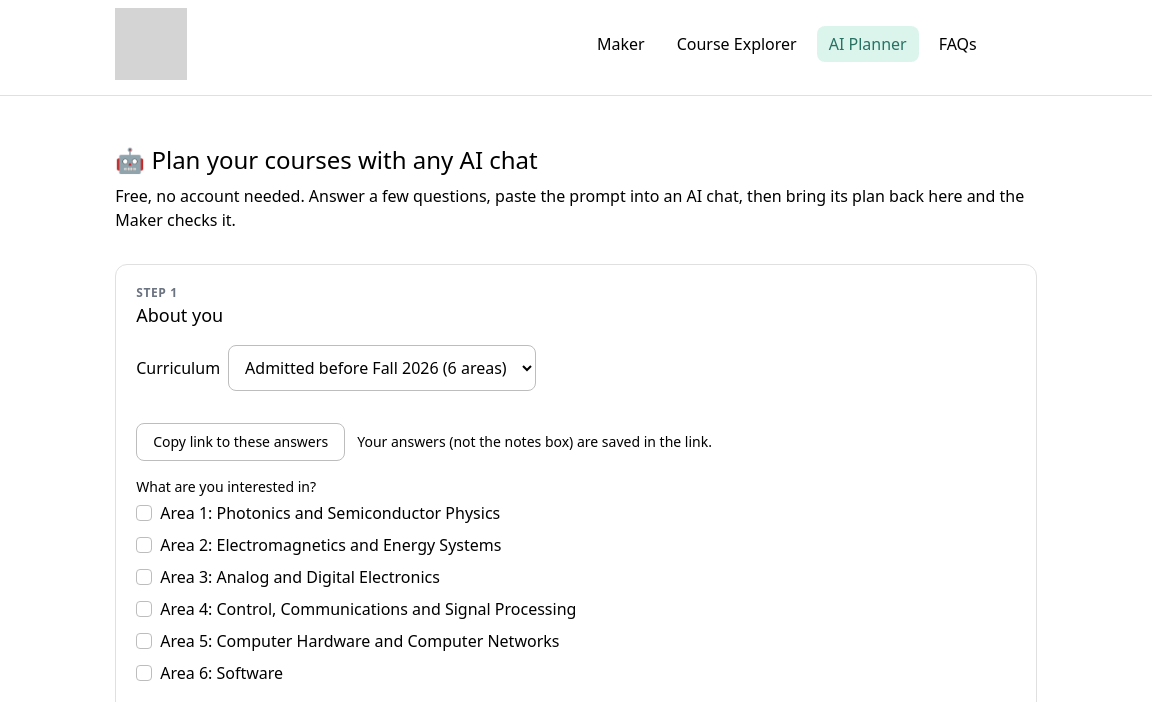
Test case: Planner page › changes the groups and requirements with the curriculum
Expected: the checkbox with test id "interest-6" is shown, [136,665,152,681]
Click the checkbox with test id "interest-5".
click(144, 641)  # box [136,633,152,649]
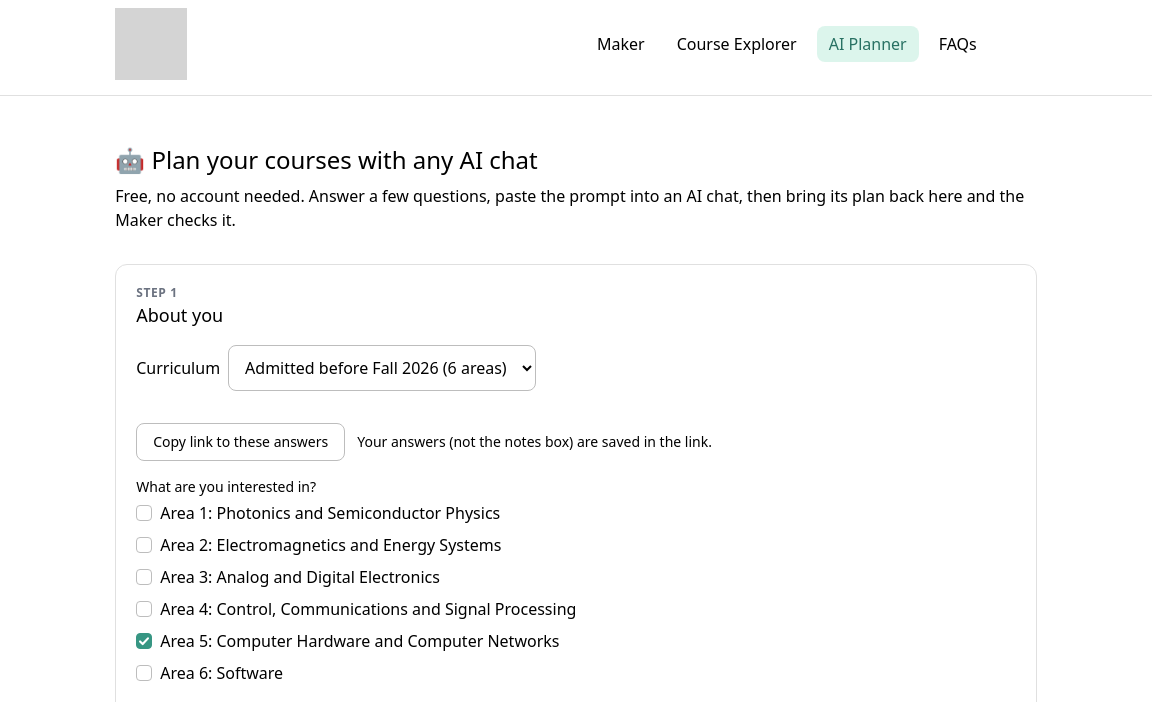
Select "Admitted Fall 2026+ · Electrical" in the dropdown with test id "curriculum-picker" at (382, 368), box [228,345,536,391]
(page scrolled)
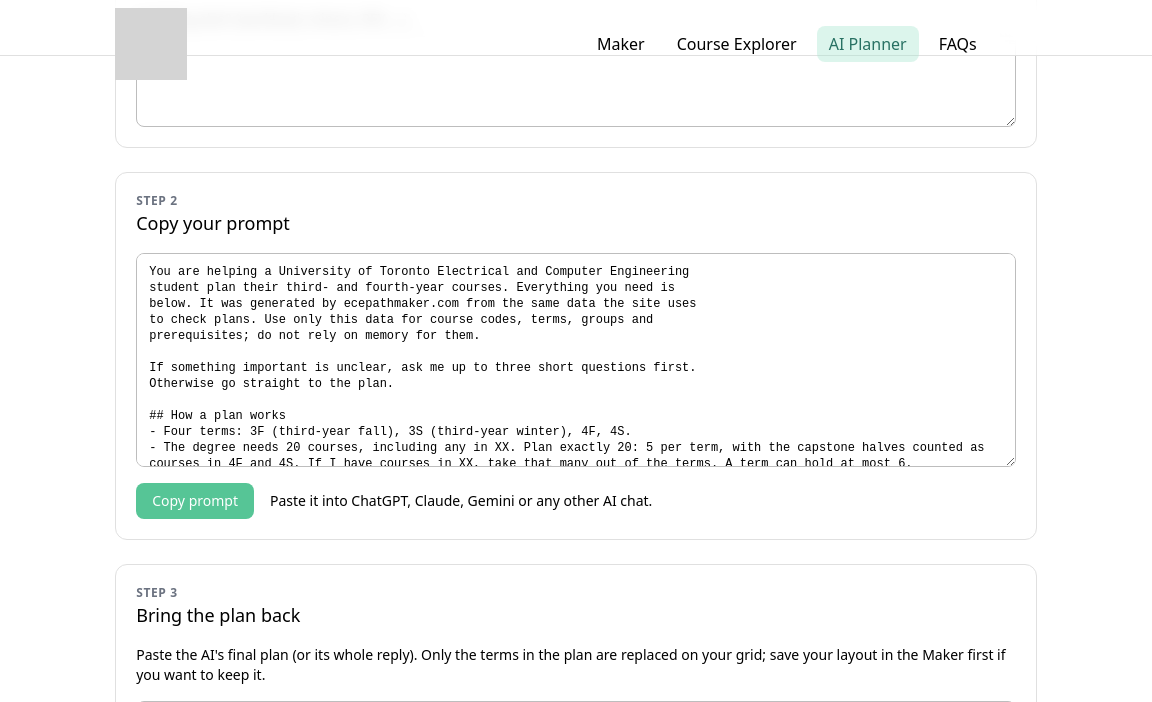
Expected: the element with test id "planner-prompt" does not show "Interested in"
Now the checkbox with test id "interest-6" is gone
